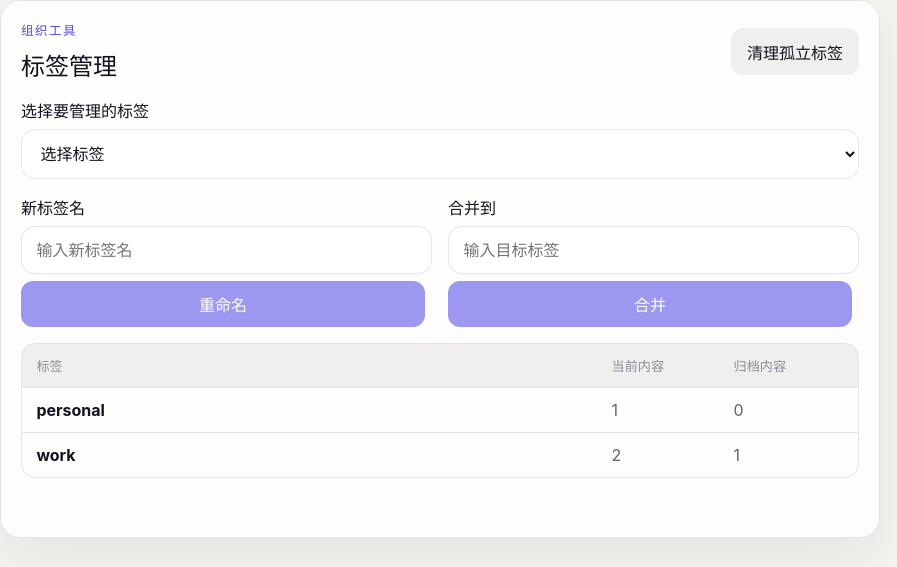
TagManager › cleans unused tags and reports API errors
Step 1. Click the button "清理孤立标签" → x=795, y=52, box [731,28,859,75]
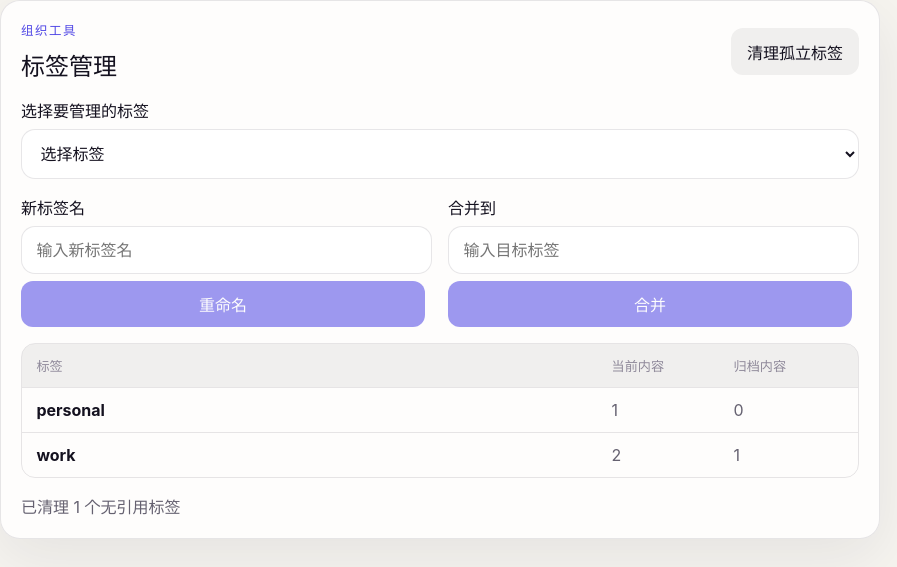
Expected: the text "已清理 1 个无引用标签" is shown, [21,497,180,517]
Step 2. Select "work" in the dropdown named "选择标签" → x=440, y=154, box [21,129,859,179]
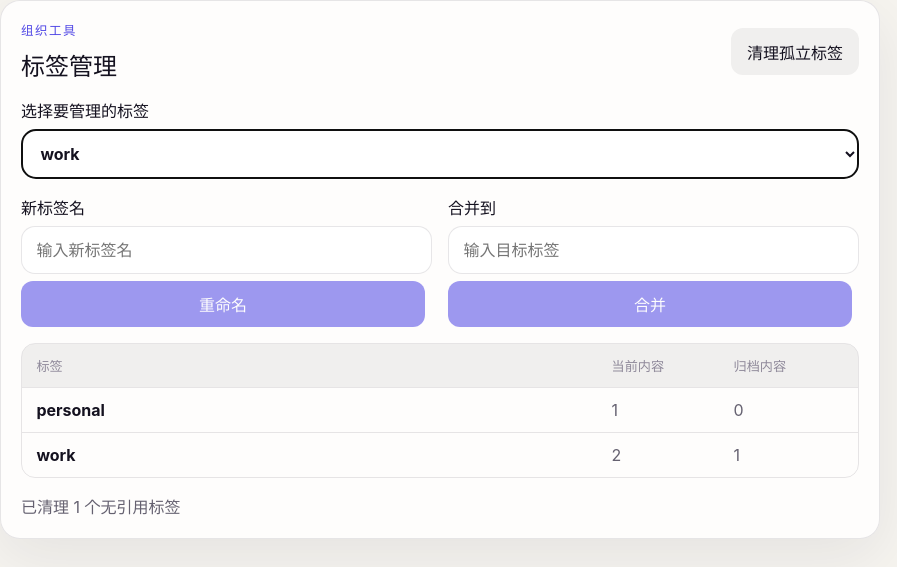
Step 3. Type "broken" into the field labelled "新标签名" → x=226, y=250, box [21,226,432,274]
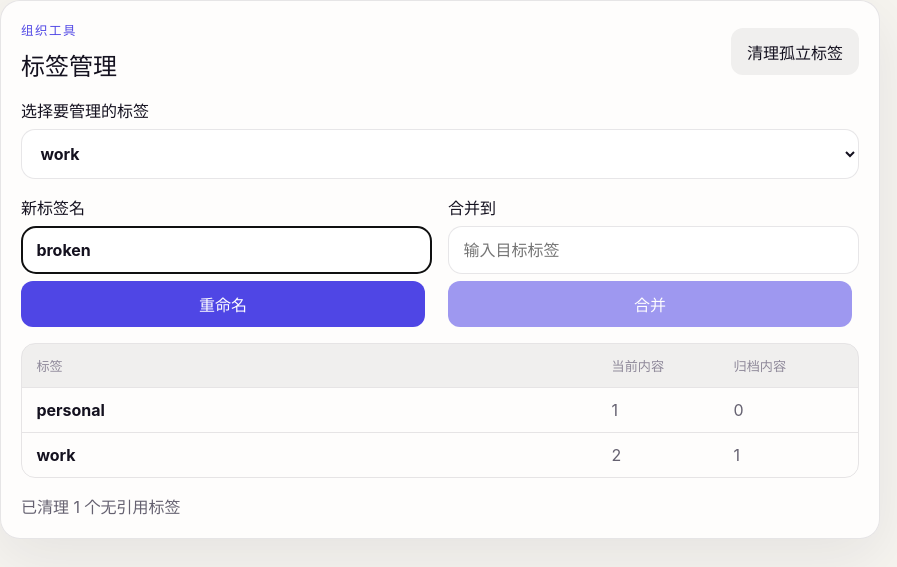
Step 4. Click the button "重命名" → x=223, y=304, box [21,281,425,327]
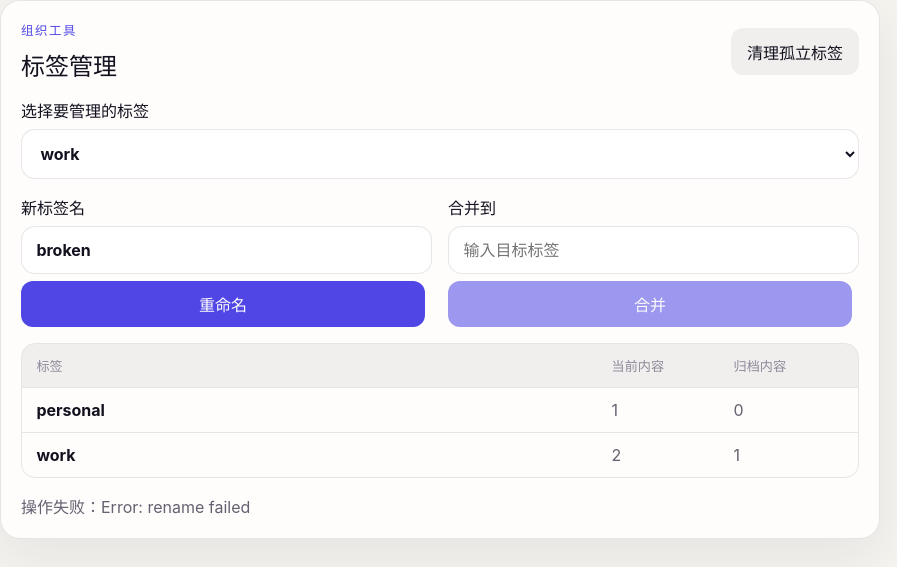
Expected: the text "操作失败：Error: rename failed" is shown, [21,497,250,517]
